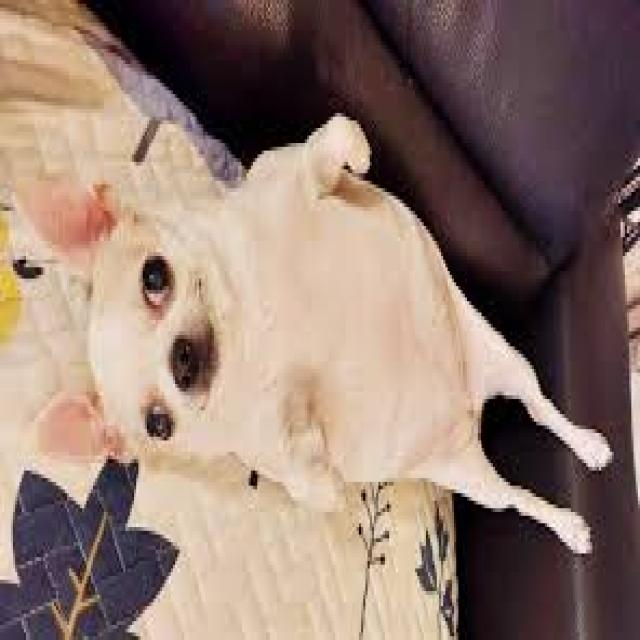Chihuahua: (15, 117, 614, 557)
